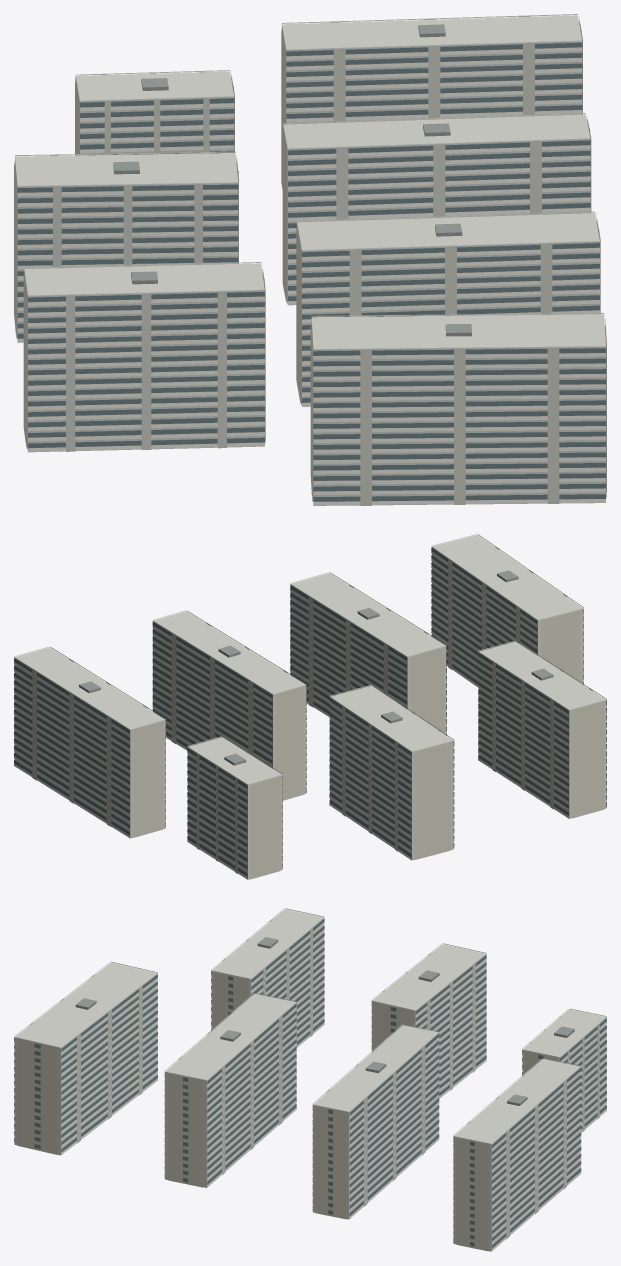
File: representative-a15703004.glb
3 renders of one model, top to bottom at view 1: azimuth 30°, elevation 25°; view 2: azimuth 150°, elevation 25°; view 3: azimuth 270°, elevation 25°, orthographic. The views are drawn at different scales.
Parts seen in each view (by area): view 1: A15703004_wall001, A15703004_glass001, A15703004_trim001, A15703004_accent001, A15703004_roof001; view 2: A15703004_wall001, A15703004_glass001, A15703004_trim001, A15703004_accent001, A15703004_roof001; view 3: A15703004_wall001, A15703004_glass001, A15703004_trim001, A15703004_accent001, A15703004_roof001.
Boxes of the visible parts, left/top/right/bottom form: A15703004_wall001: left=14, top=15, right=606, bottom=505; A15703004_glass001: left=17, top=31, right=605, bottom=501; A15703004_trim001: left=14, top=14, right=606, bottom=505; A15703004_accent001: left=14, top=20, right=606, bottom=500; A15703004_roof001: left=113, top=24, right=471, bottom=336; A15703004_wall001: left=14, top=535, right=606, bottom=879; A15703004_glass001: left=14, top=548, right=606, bottom=876; A15703004_trim001: left=14, top=534, right=606, bottom=878; A15703004_accent001: left=133, top=611, right=603, bottom=879; A15703004_roof001: left=79, top=570, right=553, bottom=765; A15703004_wall001: left=14, top=909, right=606, bottom=1251; A15703004_glass001: left=14, top=918, right=606, bottom=1248; A15703004_trim001: left=14, top=908, right=606, bottom=1250; A15703004_accent001: left=17, top=973, right=556, bottom=1251; A15703004_roof001: left=75, top=937, right=574, bottom=1105.
Size of the model in its own units: 188 by 40.9 by 200.
